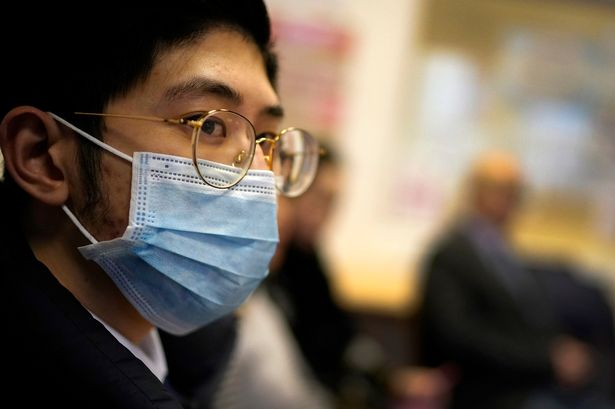surgical: (77, 131, 290, 344)
